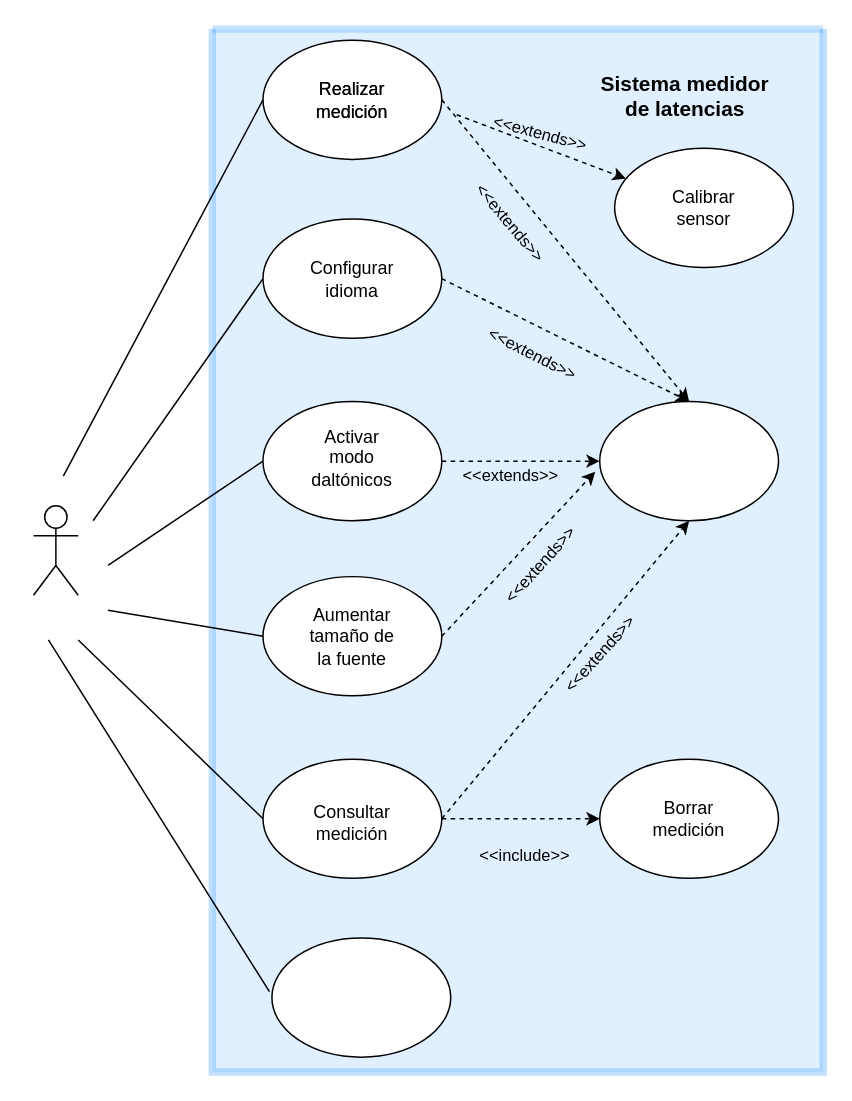
This 852x1101 diagram has some shape labels left out. Each missing label, with the centre of its shape:
Consultar ayuda: the point at 688,460
Consultar manual de usuario: the point at 360,996
Usuario: the point at 55,549
